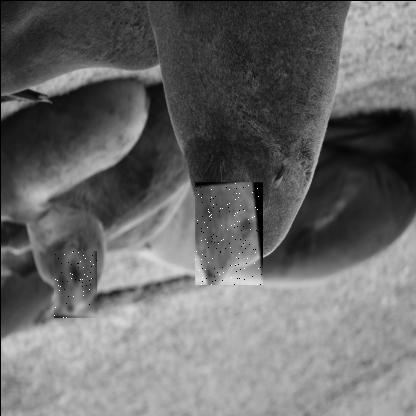face: (193, 180, 262, 284), (52, 249, 96, 317)
